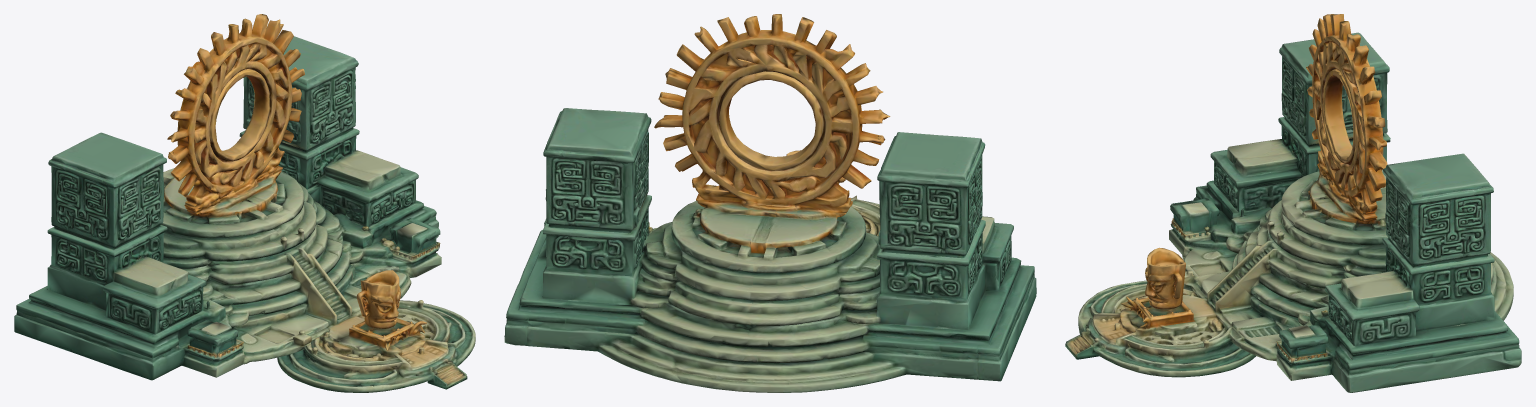
Rendered from 09-ritual.glb.
3 views of the same model, side by side, from view 1: azimuth 30°, elevation 25°; view 2: azimuth 150°, elevation 25°; view 3: azimuth 270°, elevation 25° (orthographic). The views are drawn at different scales.
Visible parts, largest first — view 1: tripo_node_5a032368-2e82-4a50-9e47-821fe3712931; view 2: tripo_node_5a032368-2e82-4a50-9e47-821fe3712931; view 3: tripo_node_5a032368-2e82-4a50-9e47-821fe3712931.
Boxes of the visible parts, bbox=[...] form: tripo_node_5a032368-2e82-4a50-9e47-821fe3712931: bbox=[14, 14, 475, 392]; tripo_node_5a032368-2e82-4a50-9e47-821fe3712931: bbox=[504, 14, 1036, 392]; tripo_node_5a032368-2e82-4a50-9e47-821fe3712931: bbox=[1065, 14, 1521, 392].
Bounding box in the file's own units: 1.41 × 0.9144 × 1.32.
1 material, 1 textured.
